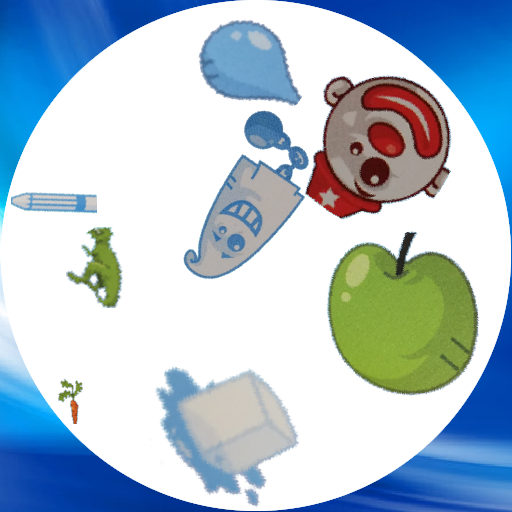apple_icon: (306, 231, 483, 408)
carrot_icon: (51, 376, 99, 424)
clown_icon: (293, 64, 454, 225)
cube_icon: (147, 335, 323, 511)
dino_icon: (66, 227, 147, 308)
ghost_icon: (151, 108, 339, 296)
pen_icon: (11, 159, 97, 245)
raindrop_icon: (195, 12, 309, 126)
